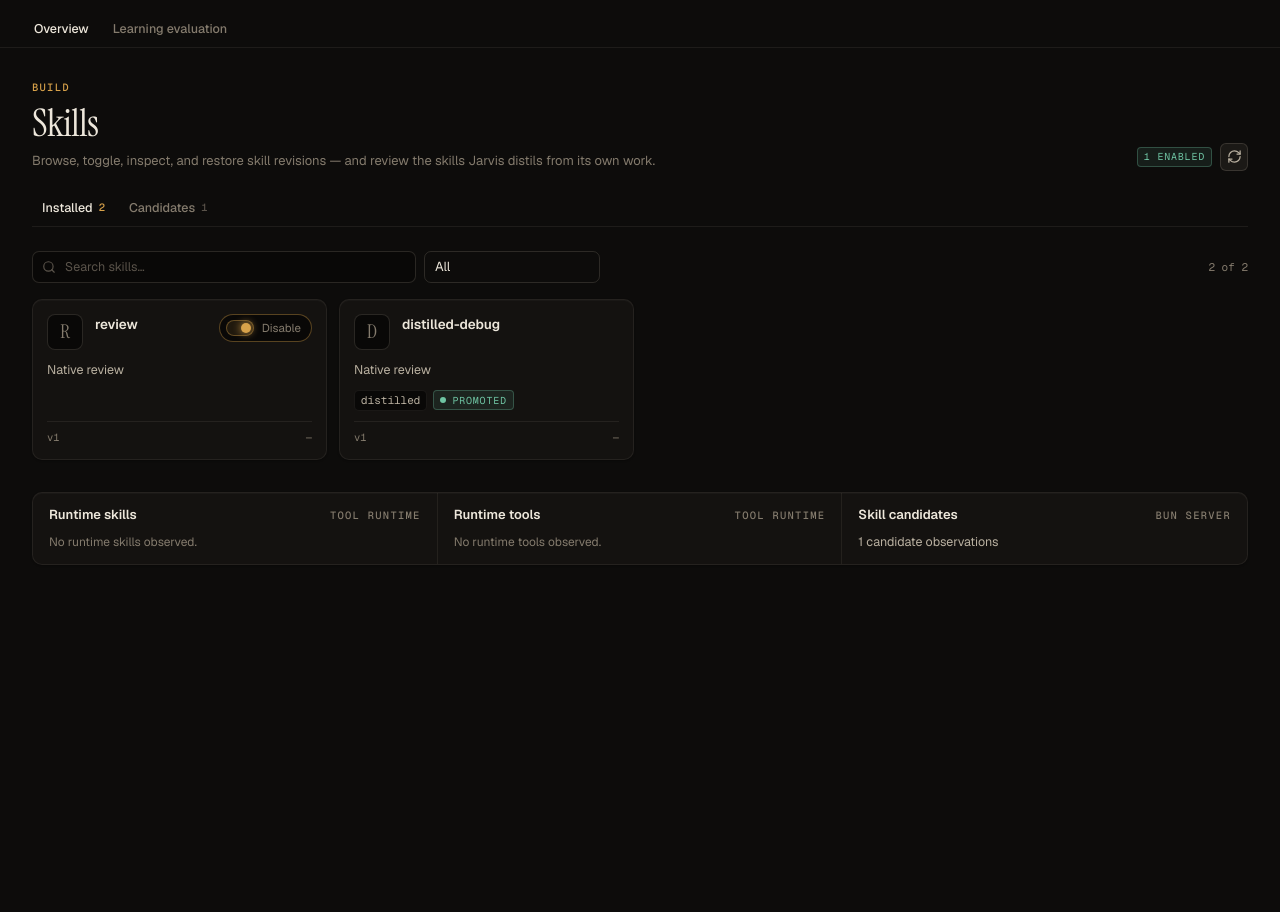
Scenario: promoted-skill performance read › announces a 404 failure as unavailable instead of hiding the panel
The image size is (1280, 912).
What coordinates should you click on to do the following:
click the button with aria-label "Inspect skill: distilled-debug"
I would click on:
 (451, 324)
Its box is [402,314,500,334].
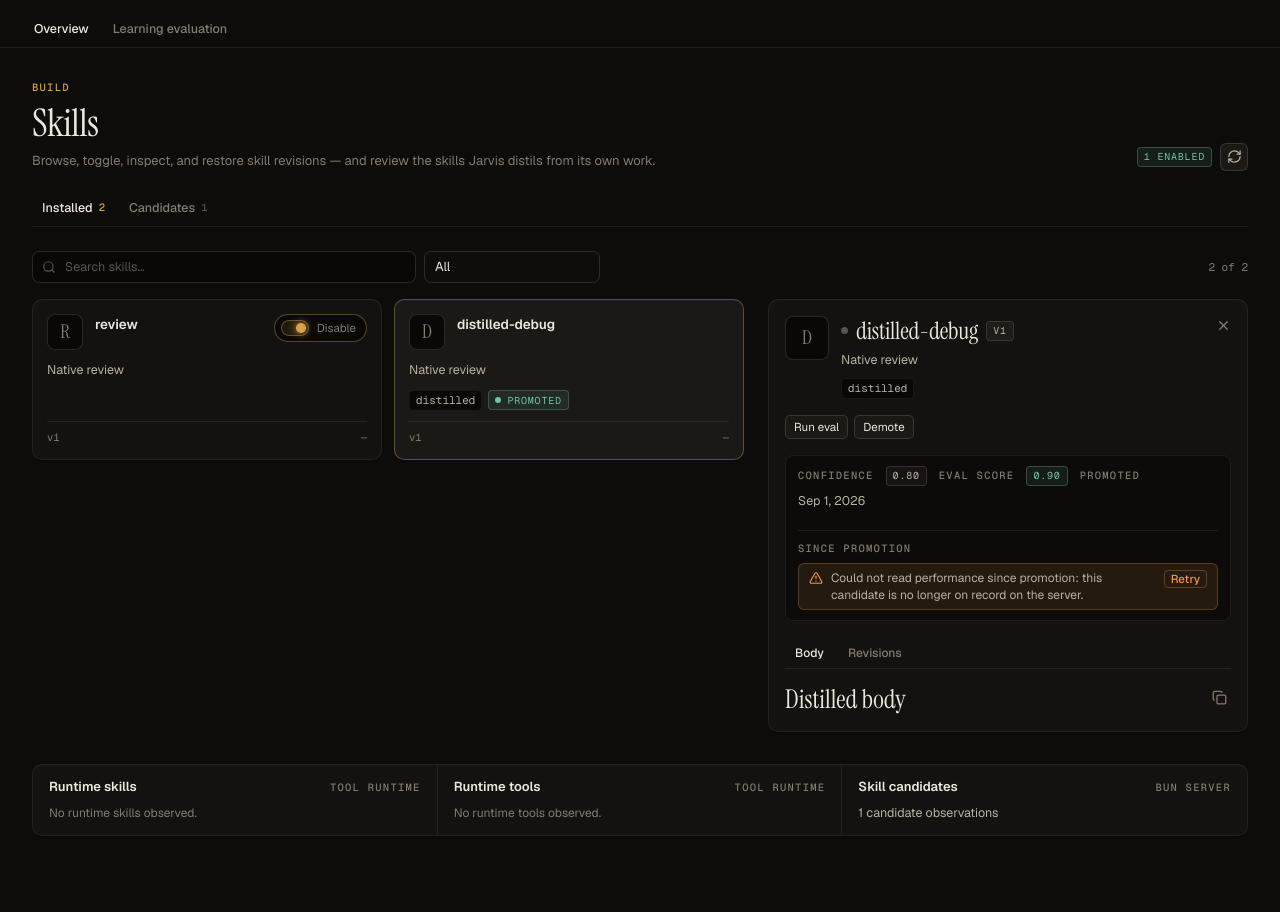
Now the text "Since promotion" is shown, box [798,541,911,557]
Now the message shows "no longer on record", box [831,570,1102,603]
Now the heading "Distilled body" is shown, box [785,682,906,716]
